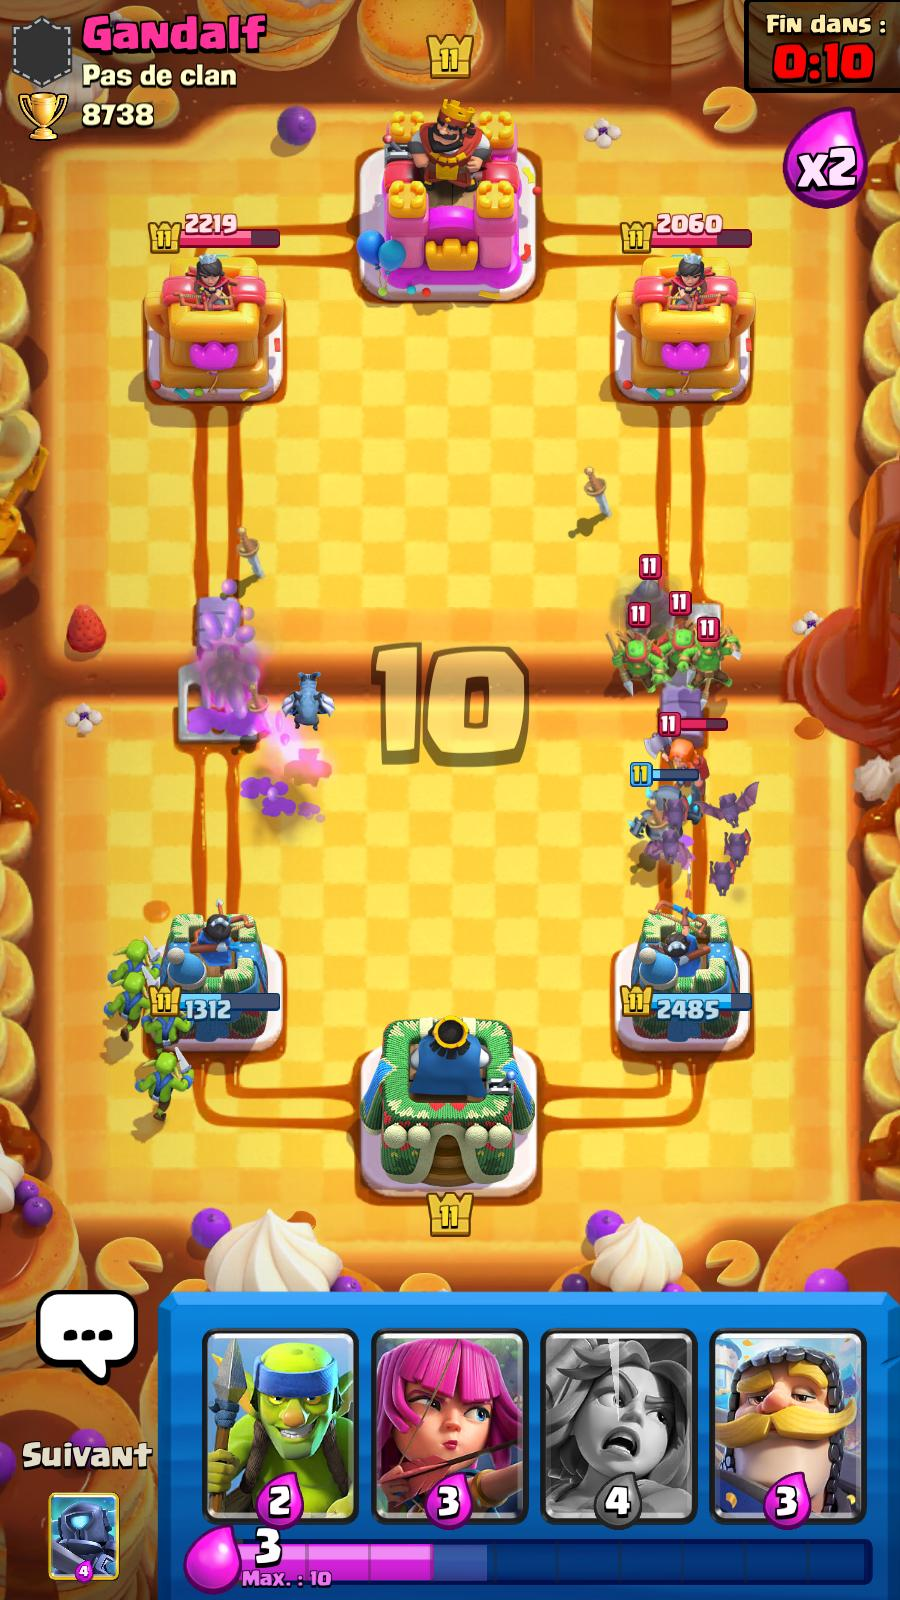bat: (691, 779, 762, 826), (648, 821, 696, 875), (703, 854, 741, 899), (720, 822, 753, 869)
gargouille: (279, 668, 336, 736)
gobelin: (135, 1048, 197, 1125), (102, 970, 162, 1044), (104, 937, 163, 1010), (140, 998, 196, 1065)
gobelin_lances: (605, 607, 669, 693), (677, 619, 745, 695), (653, 595, 708, 674)
mini_PEKKA: (621, 764, 699, 856)
mousquetaire: (622, 553, 674, 653)
valkyrie: (642, 714, 731, 793)
